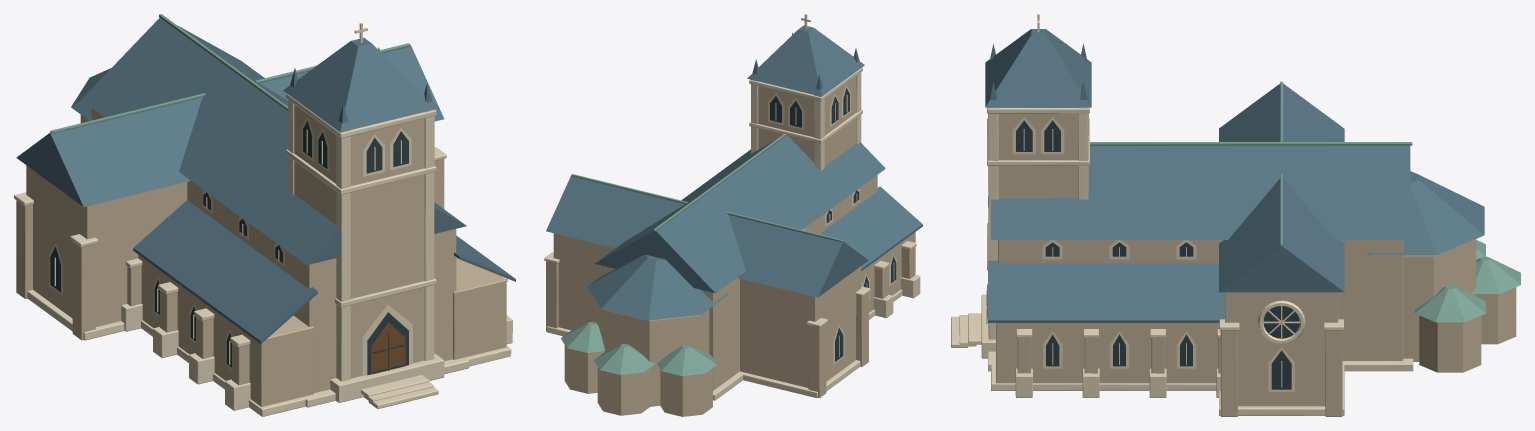
The model's file is church-lod1.glb.
The picture shows the model from 3 angles, left to right: view 1: azimuth 30°, elevation 25°; view 2: azimuth 150°, elevation 25°; view 3: azimuth 270°, elevation 25°; orthographic projection. The views are drawn at different scales.
Visible parts, largest first — view 1: Church_LOD1; view 2: Church_LOD1; view 3: Church_LOD1.
Boxes of the visible parts, <box> form: Church_LOD1: <box>14,14,515,416</box>; Church_LOD1: <box>544,14,922,416</box>; Church_LOD1: <box>951,14,1520,416</box>.
Size of the model in its own units: 19.39 by 17.45 by 28.12.
